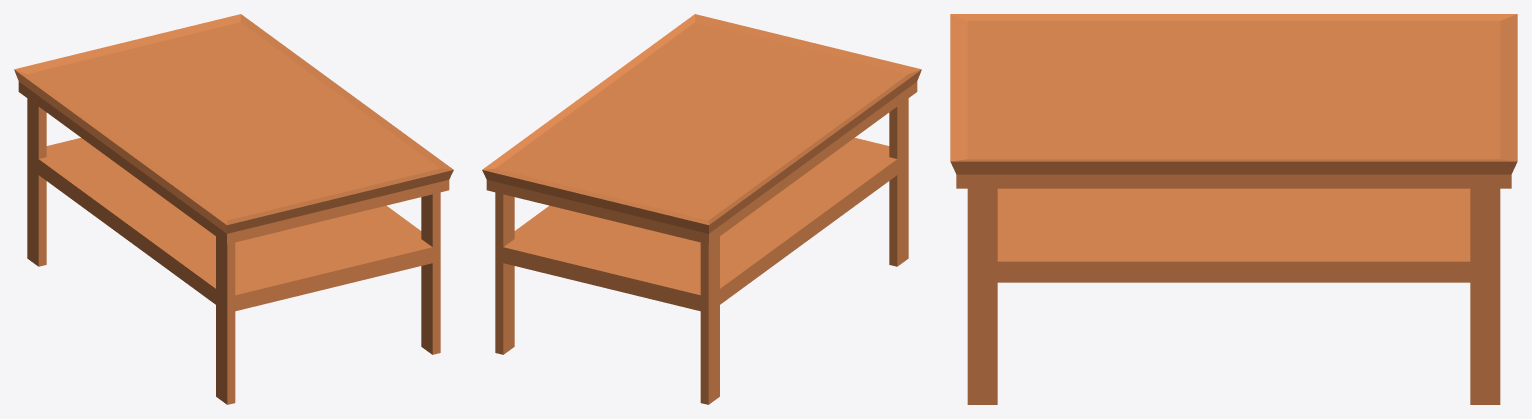
The model's file is MesaEstufa.fbx.
3 renders of one model, left to right at view 1: azimuth 30°, elevation 25°; view 2: azimuth 150°, elevation 25°; view 3: azimuth 270°, elevation 25°, orthographic. The views are drawn at different scales.
Parts seen in each view (by area): view 1: Table_LOD0; view 2: Table_LOD0; view 3: Table_LOD0.
Part boxes in pixels (x1,y1,x2,y2): Table_LOD0: (14, 14, 453, 404); Table_LOD0: (482, 14, 921, 404); Table_LOD0: (950, 14, 1517, 404).
Size of what is drawn, in the model's own units: 2 by 1.57 by 3.25.
